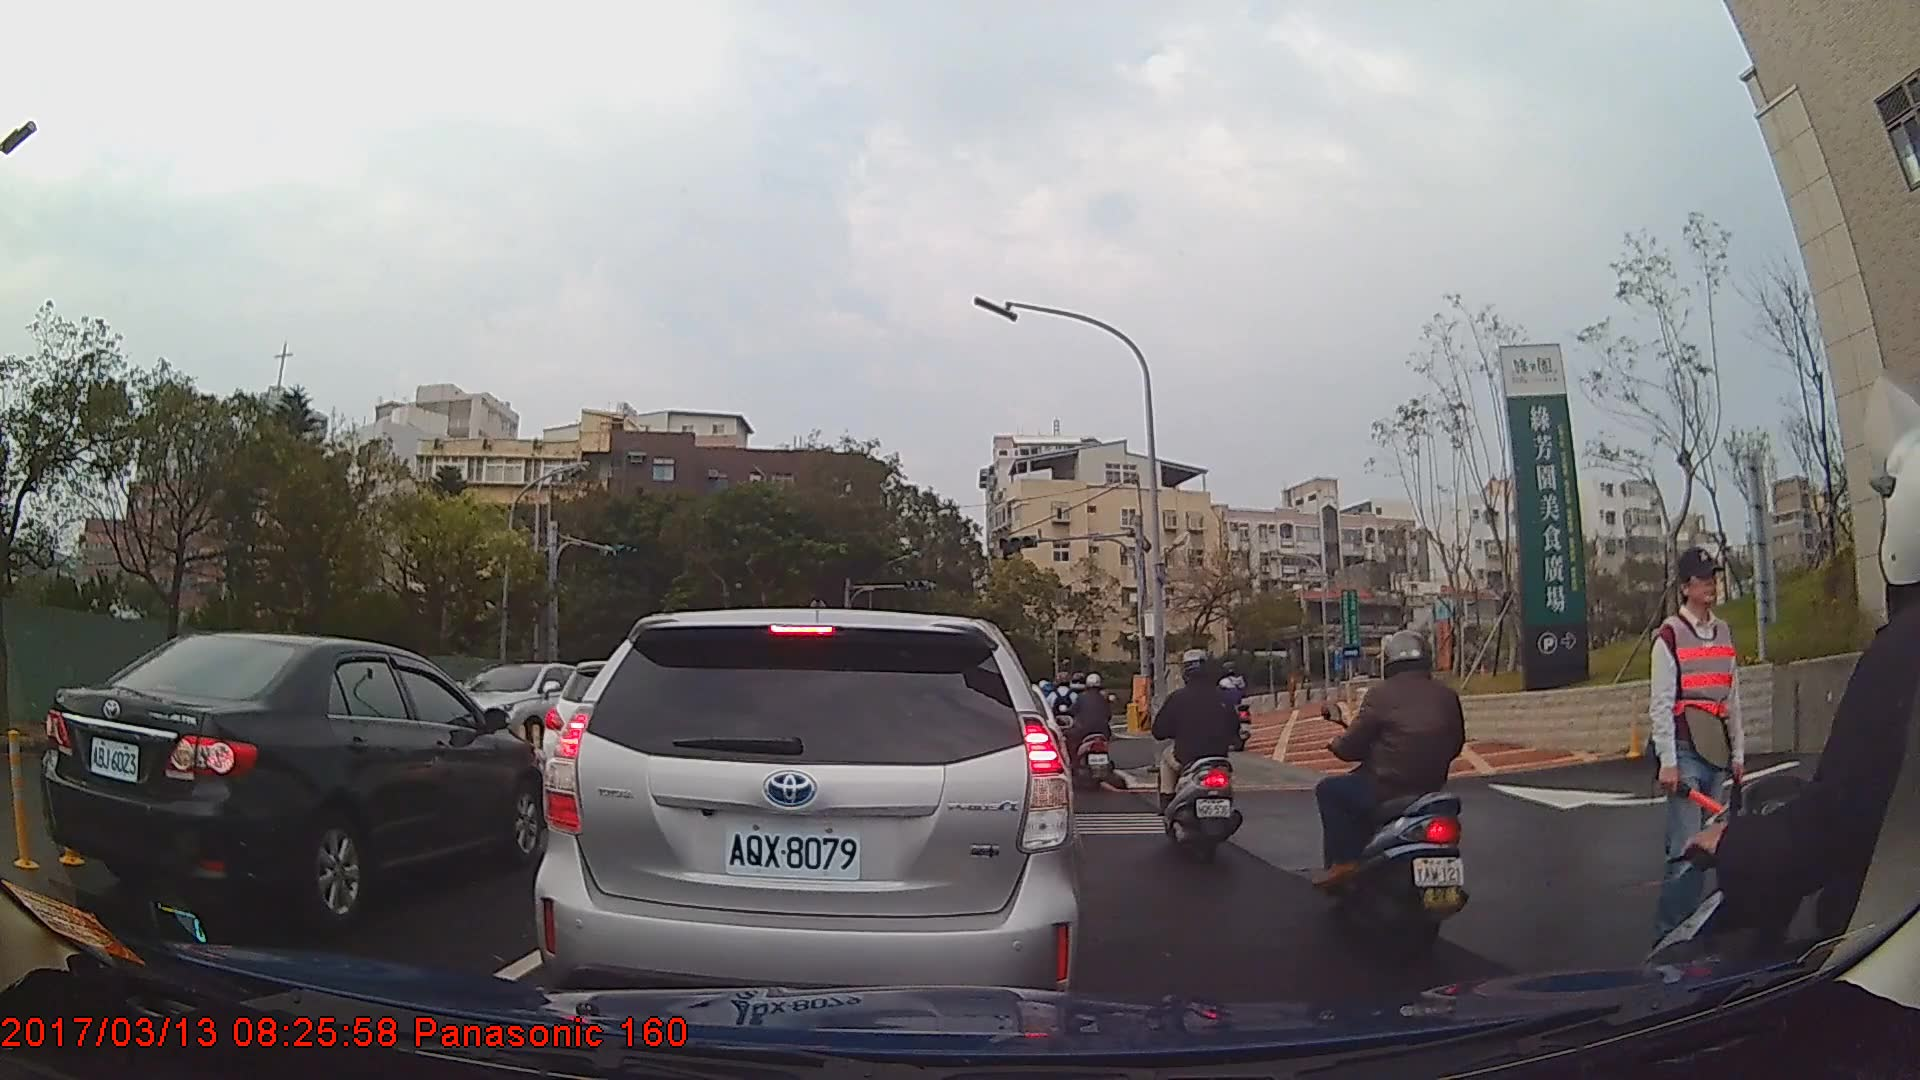pedestrian: (1642, 548, 1756, 960)
rider: (1638, 421, 1920, 1080), (1317, 626, 1486, 956), (1150, 645, 1247, 872), (1073, 671, 1119, 796), (1213, 662, 1249, 754)
vehicle: (534, 606, 1079, 1019), (40, 630, 550, 929), (450, 662, 587, 756)
